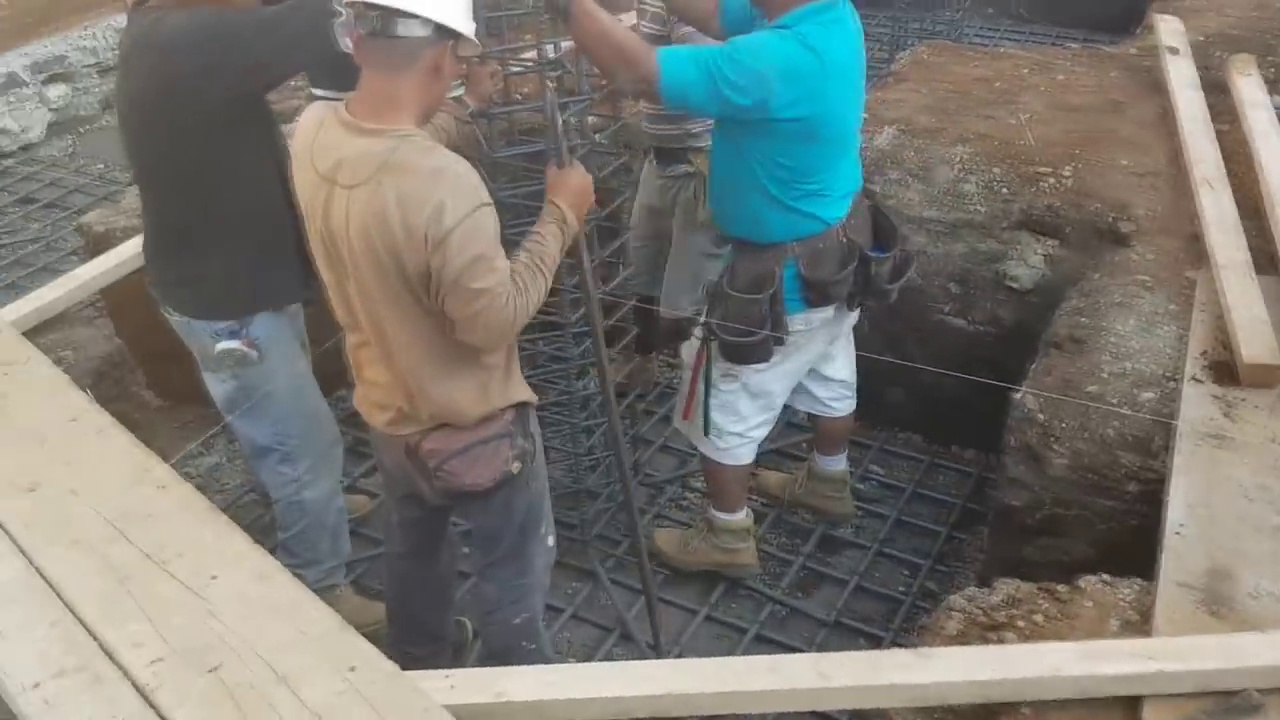helmet: (328, 0, 482, 59)
helmet-on: (327, 1, 484, 132)
person: (285, 0, 599, 666), (562, 0, 870, 587), (100, 2, 387, 627), (607, 3, 732, 486)
